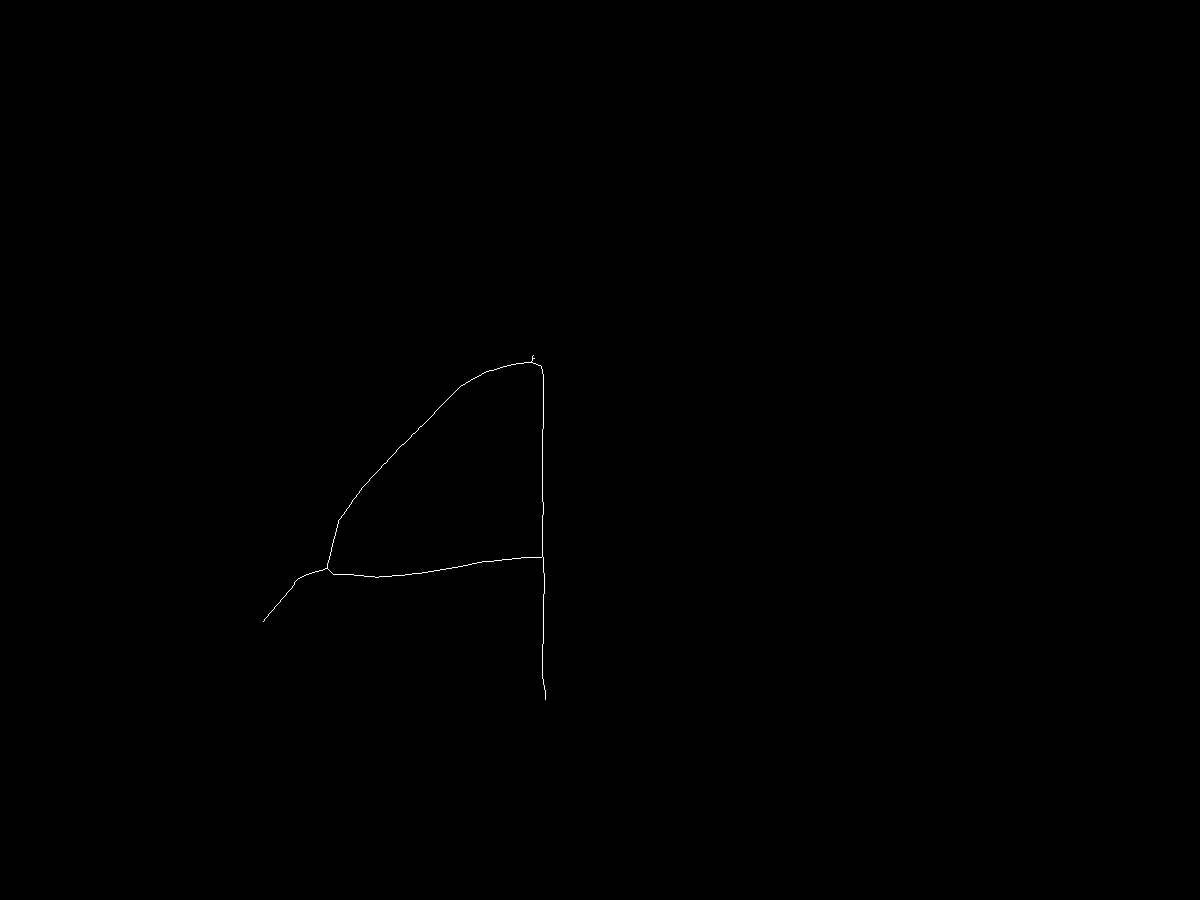dian1: (522, 354, 538, 370)
dian2: (318, 566, 335, 583)
dian3: (258, 619, 281, 642)
dian4: (532, 549, 551, 568)
dian5: (536, 693, 554, 711)
